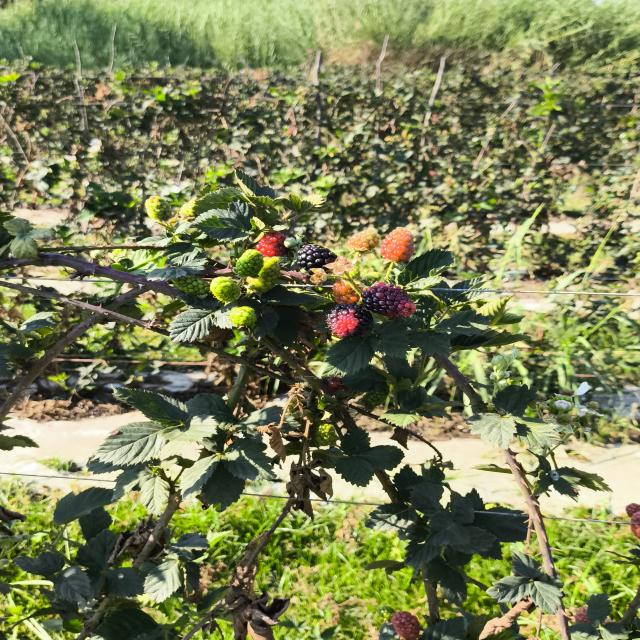maduro: (297, 244, 337, 272)
marron: (362, 282, 416, 318), (327, 303, 373, 338)
naranja: (380, 227, 415, 262), (255, 232, 286, 257), (348, 229, 380, 252), (332, 281, 359, 304)
verde: (247, 257, 280, 292), (235, 249, 264, 277), (171, 275, 208, 296), (210, 277, 241, 302), (145, 196, 173, 221), (229, 306, 256, 327)
